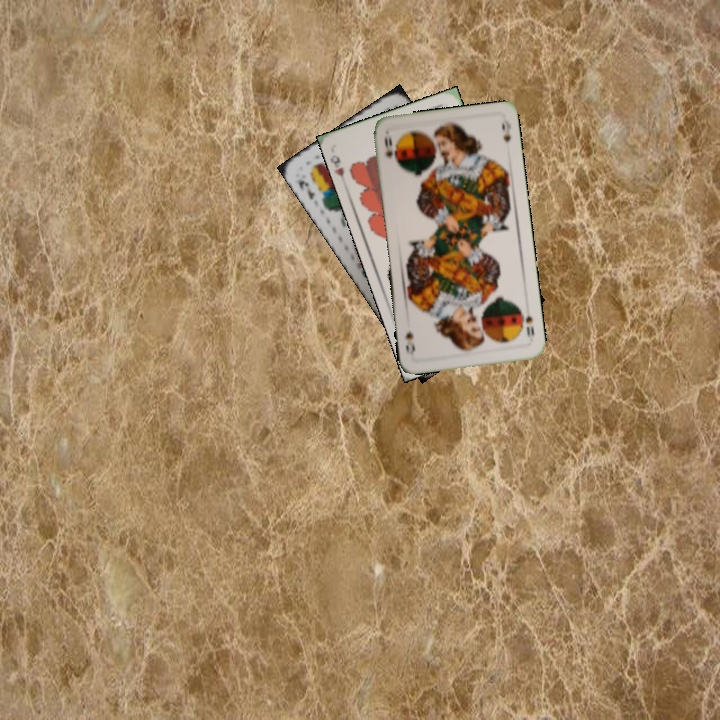EK: (294, 175, 318, 203)
H9: (328, 152, 348, 185)
SO: (517, 304, 537, 339), (380, 132, 396, 160)
